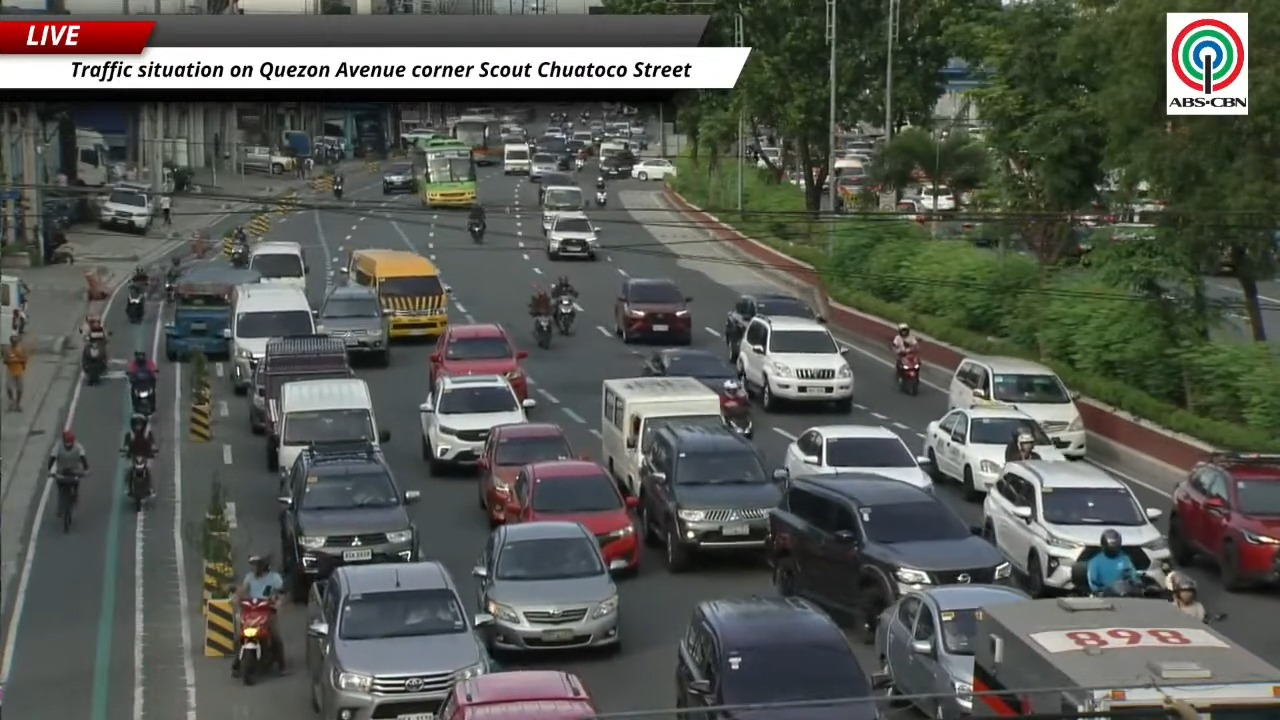bus: (418, 138, 476, 207), (453, 116, 502, 165)
car: (766, 474, 1011, 643), (305, 561, 492, 718), (982, 460, 1170, 596), (675, 595, 881, 719), (279, 444, 418, 601), (638, 423, 780, 573), (875, 585, 1030, 719), (473, 521, 619, 652), (1168, 453, 1279, 590), (506, 460, 639, 572), (948, 356, 1086, 458), (923, 405, 1065, 500), (419, 375, 535, 475), (736, 316, 853, 412), (478, 422, 574, 526), (783, 424, 932, 488), (435, 670, 598, 719), (429, 323, 527, 399), (642, 347, 749, 416), (723, 291, 822, 361), (315, 284, 389, 366), (614, 278, 691, 344), (642, 348, 736, 391), (99, 185, 153, 234), (546, 211, 598, 259), (540, 181, 585, 233), (240, 146, 297, 174), (538, 172, 577, 206), (382, 163, 417, 194), (528, 151, 560, 182), (632, 158, 676, 180), (918, 186, 956, 211), (837, 168, 867, 199), (599, 155, 632, 178), (571, 129, 594, 153), (756, 147, 782, 168), (566, 137, 589, 157), (630, 130, 649, 150), (541, 126, 564, 140)
motorcycle: (1070, 562, 1170, 600), (236, 599, 278, 685), (52, 471, 83, 532), (721, 380, 753, 437), (126, 455, 150, 512), (82, 340, 106, 385), (896, 352, 920, 395), (130, 379, 155, 417), (554, 296, 575, 335), (533, 315, 553, 350), (126, 290, 144, 323), (230, 244, 249, 268), (468, 221, 484, 243), (164, 279, 176, 303), (595, 191, 607, 206), (574, 156, 585, 171), (333, 183, 343, 198)
truck: (972, 597, 1279, 719), (600, 378, 724, 496), (250, 334, 353, 471), (164, 265, 261, 362), (43, 120, 112, 186), (75, 127, 111, 186), (281, 130, 312, 160)
